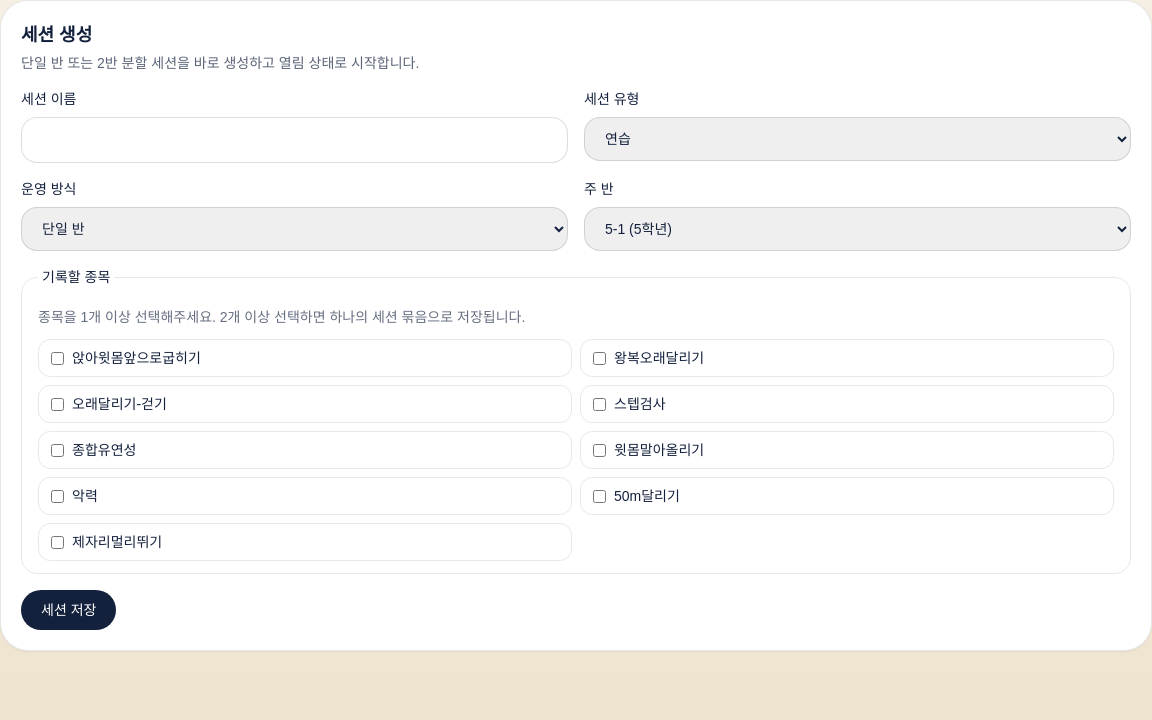
it: teacher local mutation refresh behavior › creates a session locally and only syncs the next version baseline
The image size is (1152, 720).
In the field labelled "세션 이름": (294, 140) [21,117,568,163], type "새 세션"
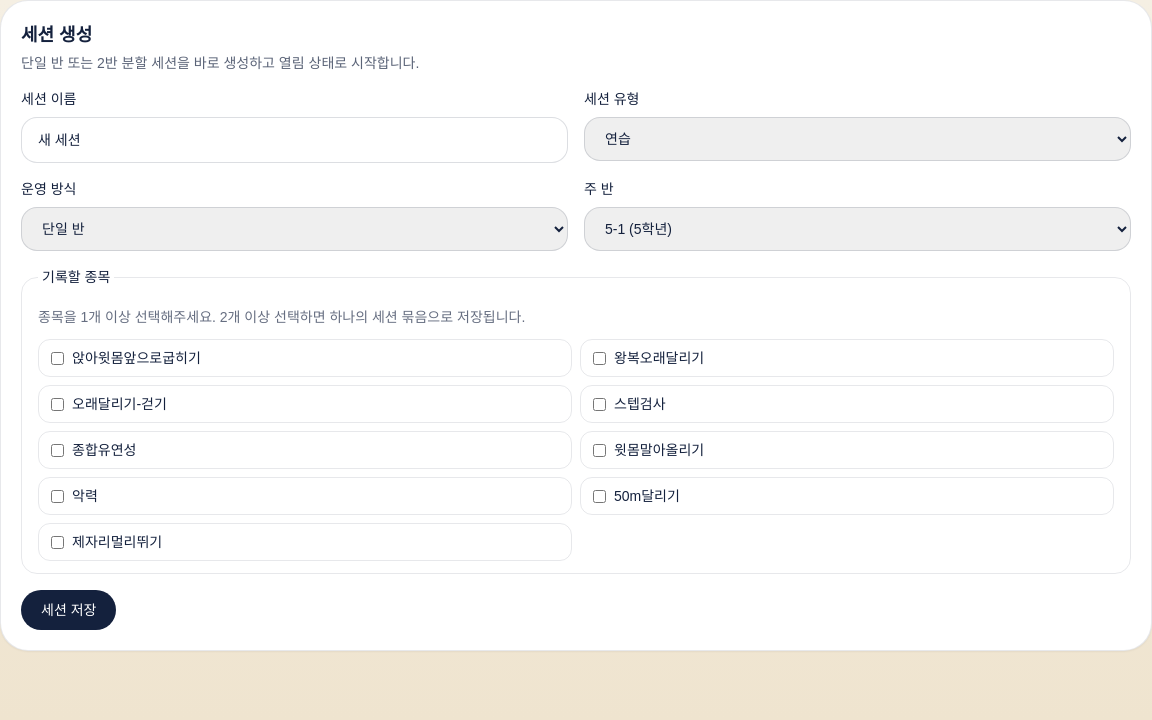
Click the checkbox labelled "왕복오래달리기": (600, 358) [593,352,606,364]
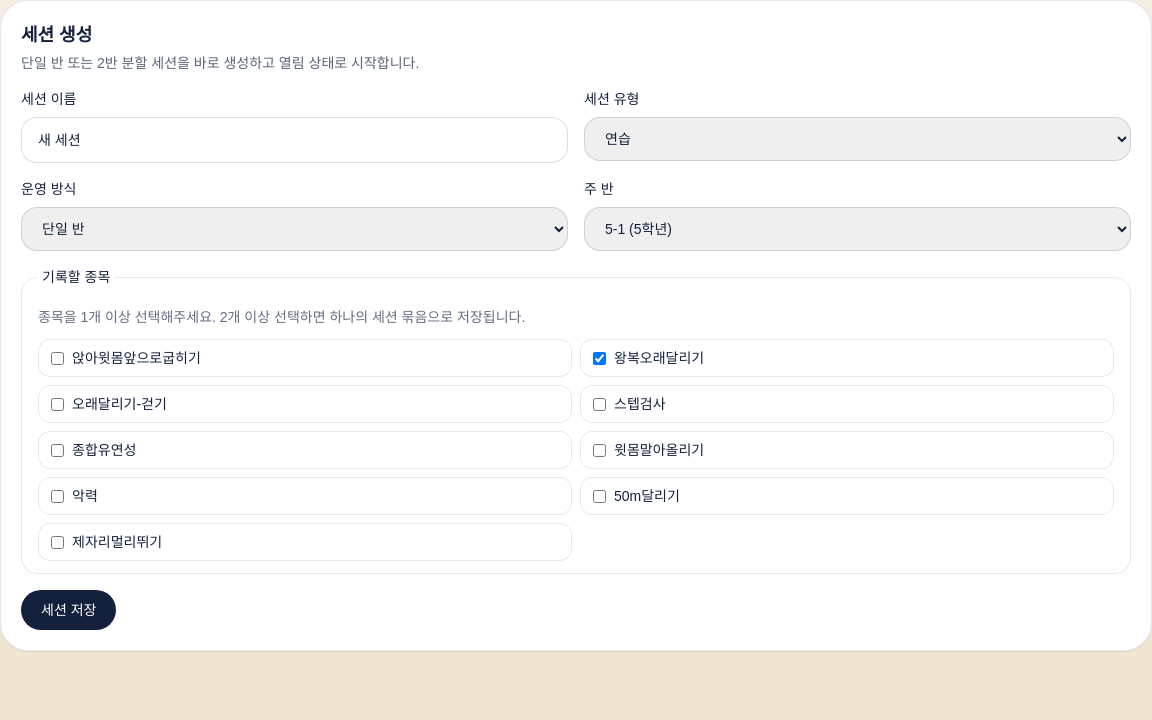
Click the button "세션 저장": (69, 610) [21,590,116,630]
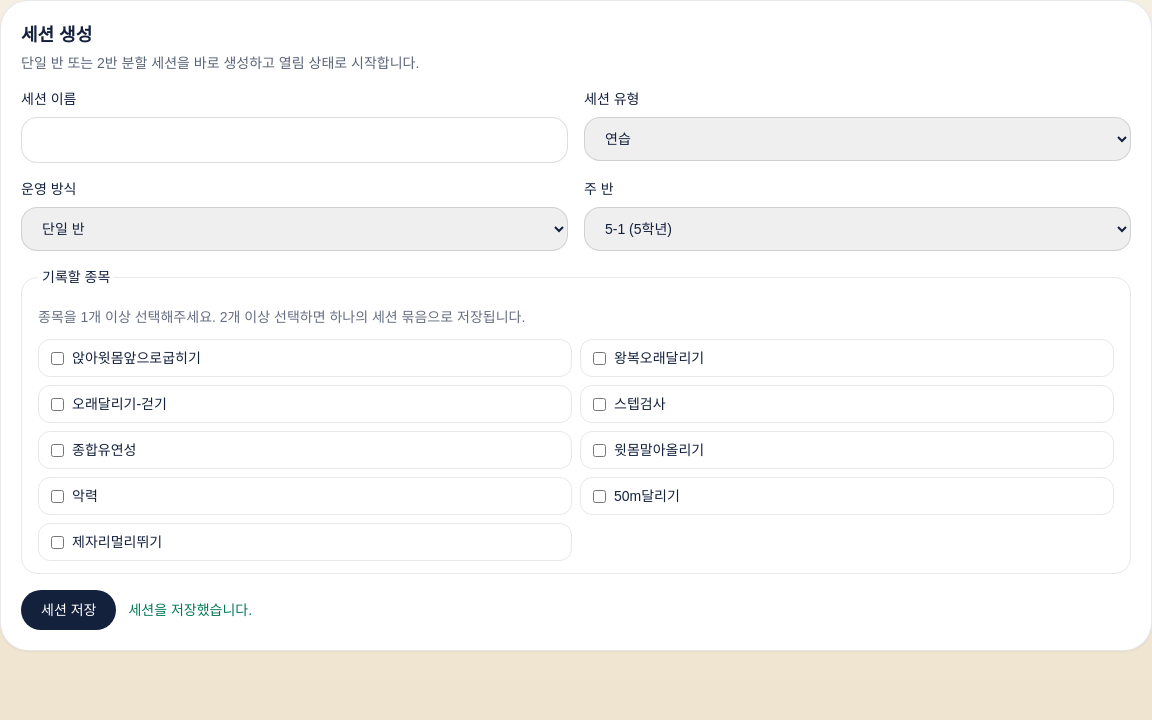
Expected: the text "세션을 저장했습니다." is shown, [128,600,252,620]
